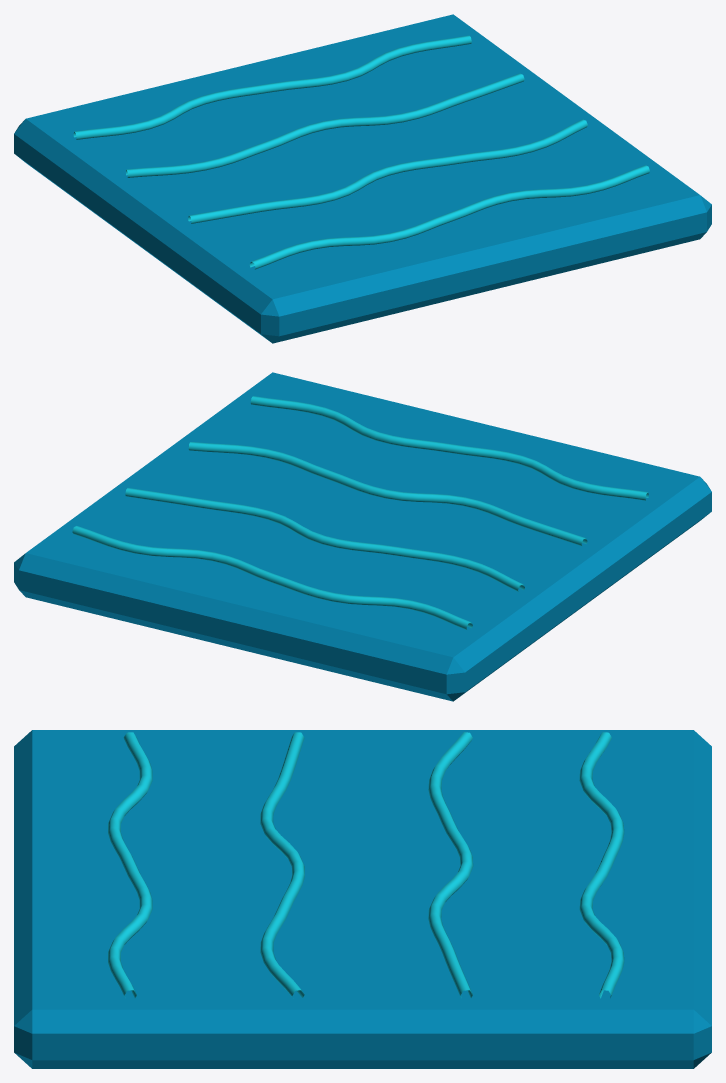
The model's file is terrain-water.glb.
3 views of the same model, one above another, from view 1: azimuth 30°, elevation 25°; view 2: azimuth 150°, elevation 25°; view 3: azimuth 270°, elevation 25° (orthographic). The views are drawn at different scales.
Parts seen in each view (by area): view 1: terrain-water; view 2: terrain-water; view 3: terrain-water.
Boxes of the visible parts, x1,y1,x2,y2 form: terrain-water: (14,14,711,343); terrain-water: (14,372,711,701); terrain-water: (14,730,711,1068).
Size of the model in its own units: 0.96 by 0.1028 by 0.96.
